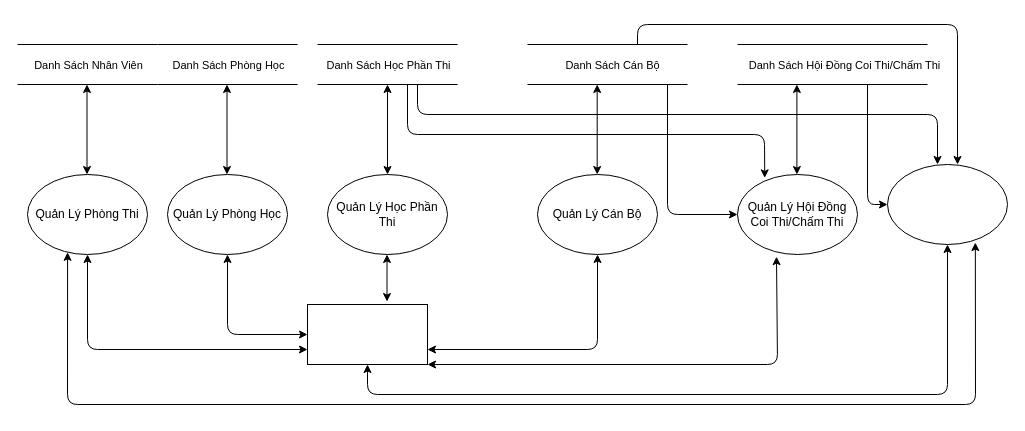
This 1025x431 diagram has some shape labels left out. The shapes that lost their labels are listed below. From the top down, each one's centre as x and y in pixels, then its label:
[947,204]: Báo Cáo
[367,334]: Người Dùng
